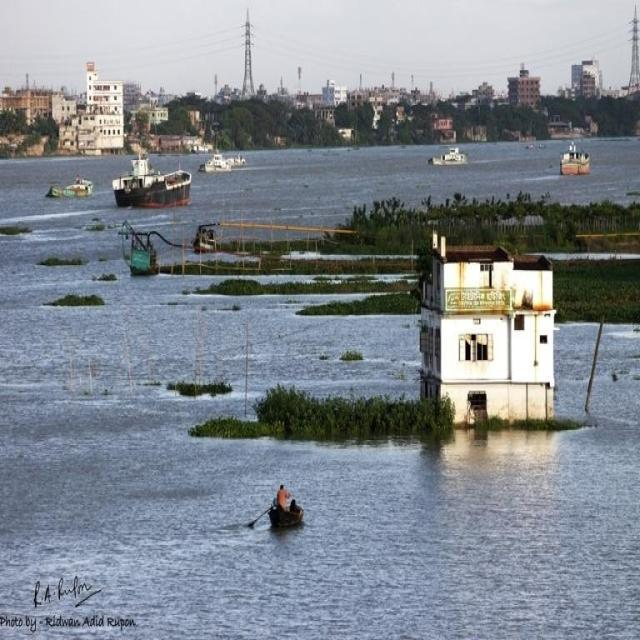boat: (115, 161, 196, 210), (260, 491, 313, 536), (47, 176, 99, 201), (557, 143, 592, 175), (192, 222, 218, 256), (429, 148, 466, 170), (200, 155, 233, 175)
